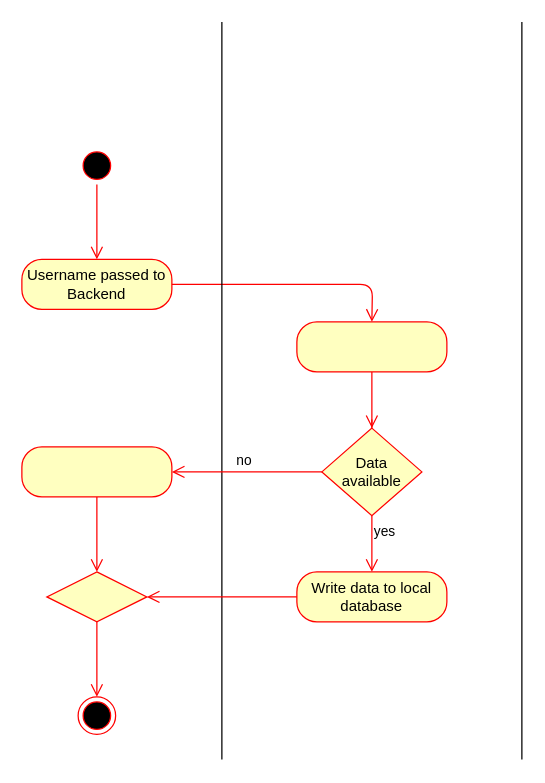
The diagram is 545 pixels wide and 783 high, and some of its shapes have lost their labels. The shapes that lost their labels are listed below. From the top down, each one's centre as x and y in pixels, then its label:
At (x=371, y=346): "Fetch username's data from API".
At (x=96, y=471): "Return error message".
